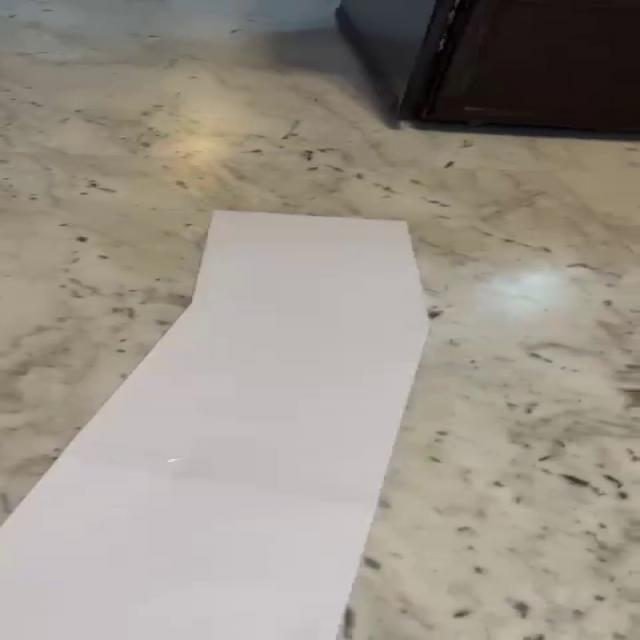road: (3, 211, 429, 640)
